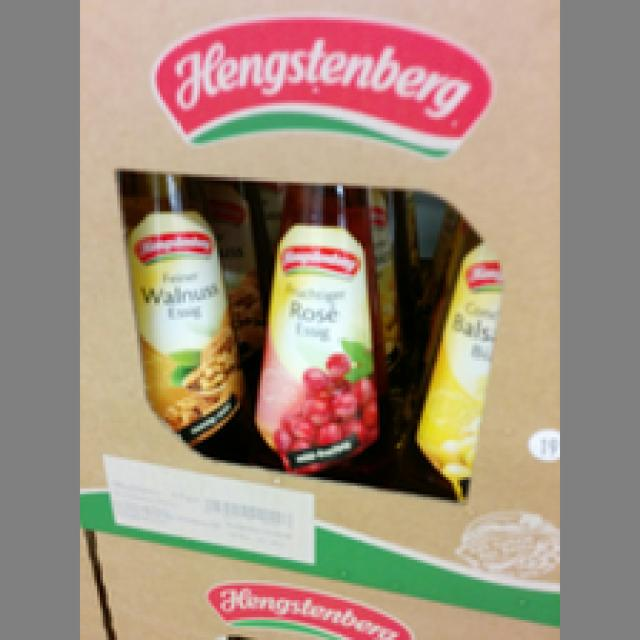groceries: (252, 183, 394, 486), (114, 169, 246, 457), (412, 195, 508, 514)
